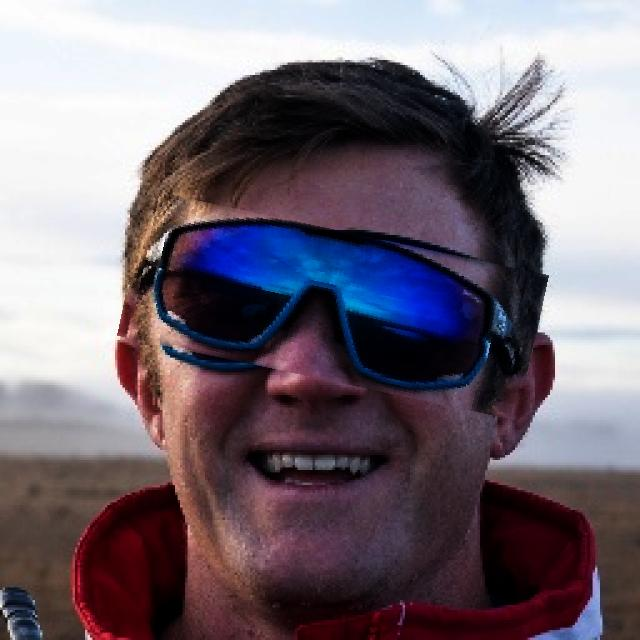glasses: (122, 211, 544, 400)
